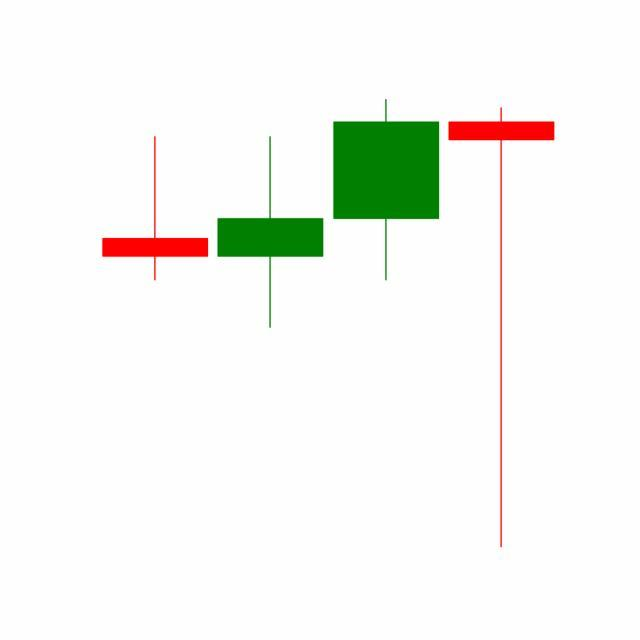Dragonfly Doji: (444, 103, 560, 553)
